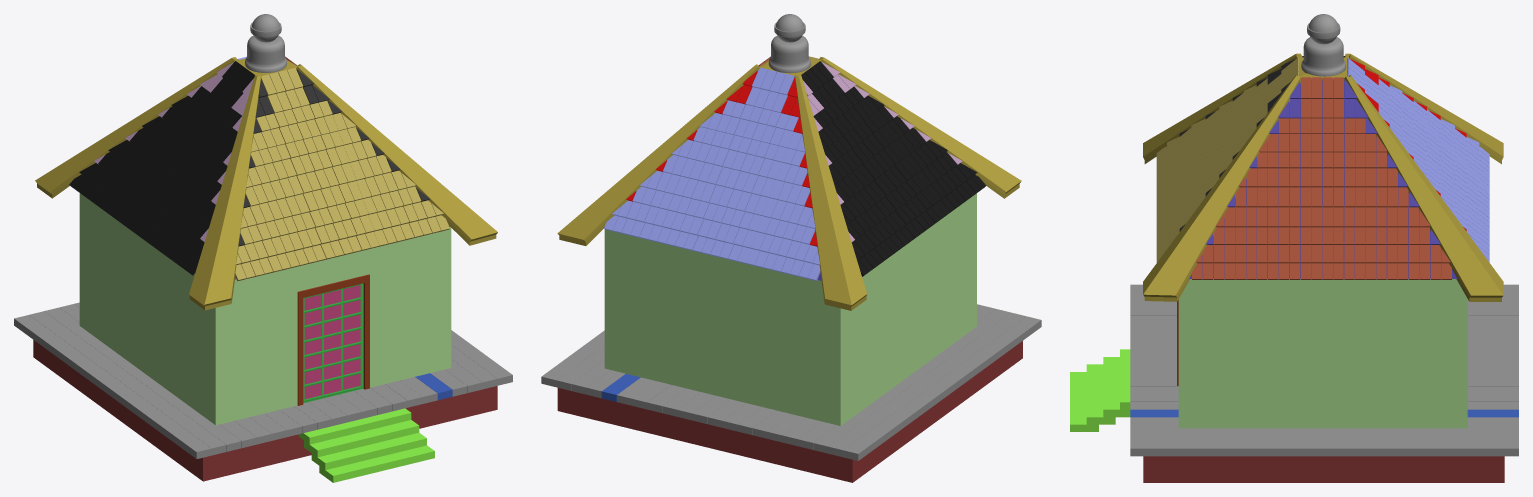
The model's file is Cabaña.FBX.
3 views of the same model, side by side, from view 1: azimuth 30°, elevation 25°; view 2: azimuth 150°, elevation 25°; view 3: azimuth 270°, elevation 25° (orthographic). The views are drawn at different scales.
Parts seen in each view (by area): view 1: BaseCasa, Tejas3, Tejas, TejasSuperiores, SoportePrincipal, Escalones (×4), VentanasPuerta, PanelE, PanelO, PanelJ, PuertaMarco, MarcoPuerta (+7 smaller); view 2: BaseCasa, Tejas1, Tejas, TejasSuperiores, SoportePrincipal, PanelE, PanelO, PanelJ, TejasCortas3, BaseDeco2, TejasCortas2, PanelD (+4 smaller); view 3: BaseCasa, Tejas2, TejasSuperiores, SoportePrincipal, Tejas3, Tejas1, PanelD, Escalones (×4), PanelC, ParteInferior, PanelÑ, TejasCortas1 (+20 smaller).
Boxes of the visible parts, bbox=[...] form: BaseCasa: bbox=[79, 193, 451, 425]; Tejas3: bbox=[235, 68, 449, 281]; Tejas: bbox=[69, 61, 254, 275]; TejasSuperiores: bbox=[35, 57, 497, 310]; SoportePrincipal: bbox=[33, 340, 497, 481]; Escalones (×4): bbox=[298, 408, 434, 482]; VentanasPuerta: bbox=[304, 285, 360, 399]; PanelE: bbox=[14, 315, 211, 458]; PanelO: bbox=[29, 311, 226, 455]; PanelJ: bbox=[44, 307, 241, 451]; PuertaMarco: bbox=[303, 283, 363, 403]; MarcoPuerta: bbox=[297, 274, 369, 405]; BaseCasa: bbox=[604, 193, 976, 425]; Tejas1: bbox=[604, 67, 820, 280]; Tejas: bbox=[801, 61, 986, 276]; TejasSuperiores: bbox=[557, 57, 1021, 310]; SoportePrincipal: bbox=[557, 341, 1022, 482]; PanelE: bbox=[843, 316, 1041, 460]; PanelO: bbox=[828, 312, 1025, 457]; PanelJ: bbox=[813, 309, 1010, 453]; TejasCortas3: bbox=[626, 70, 817, 246]; BaseDeco2: bbox=[768, 35, 810, 73]; TejasCortas2: bbox=[803, 62, 962, 242]; PanelD: bbox=[541, 330, 604, 386]; BaseCasa: bbox=[1178, 279, 1467, 428]; Tejas2: bbox=[1192, 77, 1451, 279]; TejasSuperiores: bbox=[1143, 53, 1503, 301]; SoportePrincipal: bbox=[1143, 456, 1504, 482]; Tejas3: bbox=[1156, 58, 1298, 262]; Tejas1: bbox=[1347, 58, 1489, 262]; PanelD: bbox=[1130, 441, 1518, 456]; Escalones (×4): bbox=[1070, 349, 1130, 431]; PanelC: bbox=[1130, 433, 1518, 440]; ParteInferior: bbox=[1189, 80, 1457, 278]; PanelÑ: bbox=[1130, 425, 1518, 432]; TejasCortas1: bbox=[1206, 79, 1440, 244].
Size of the model in its own units: 1074 by 1195 by 1242.
